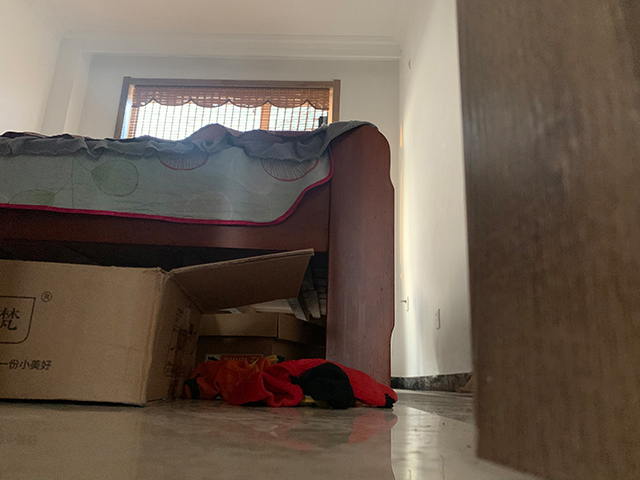bed: (1, 119, 396, 399)
socks: (181, 355, 399, 409)
